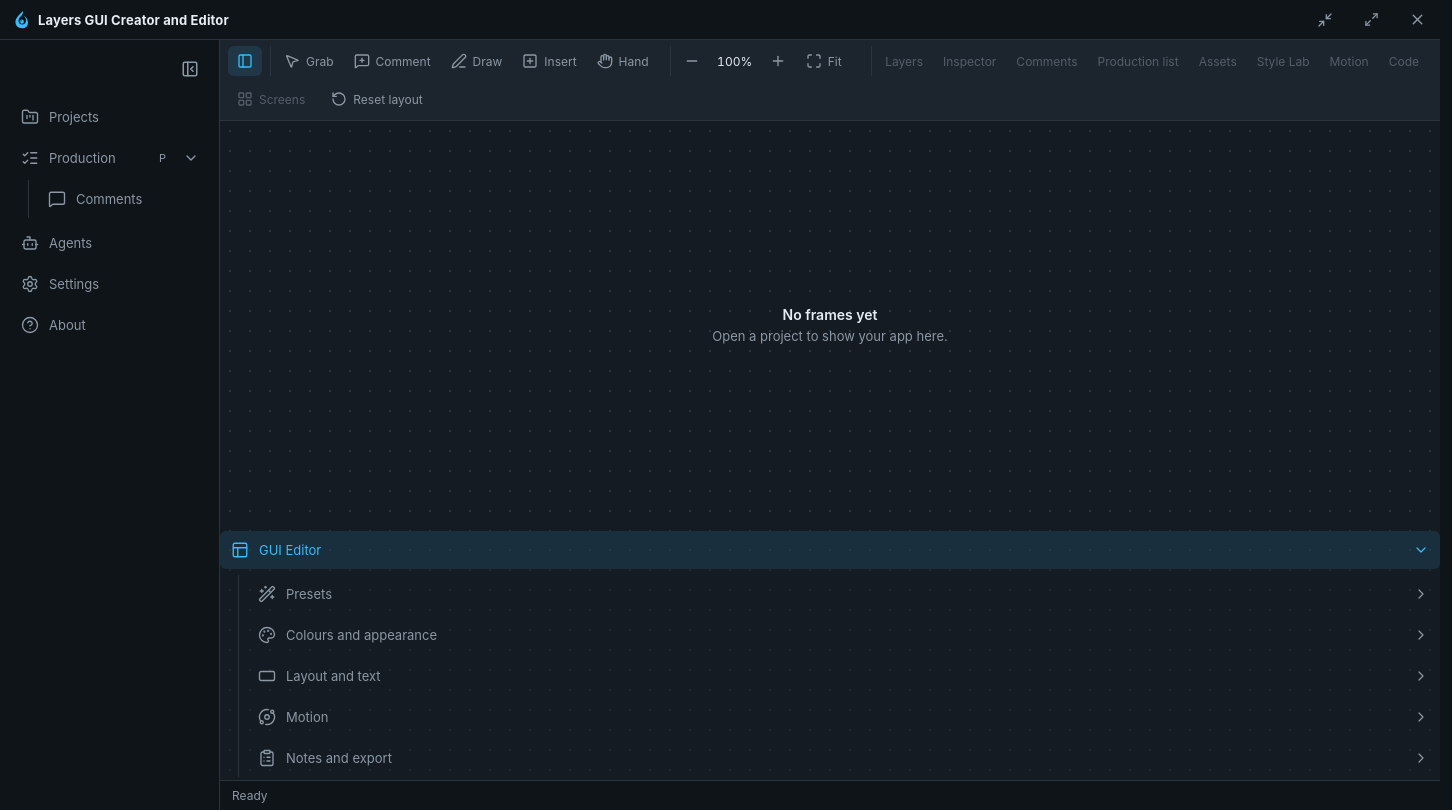
Scenario: the canvas stays viewable while another page is open and closes back to it
The image size is (1452, 810).
Click the button "Production P" at (94, 158), box top-left (10, 139), bottom-right (177, 177)
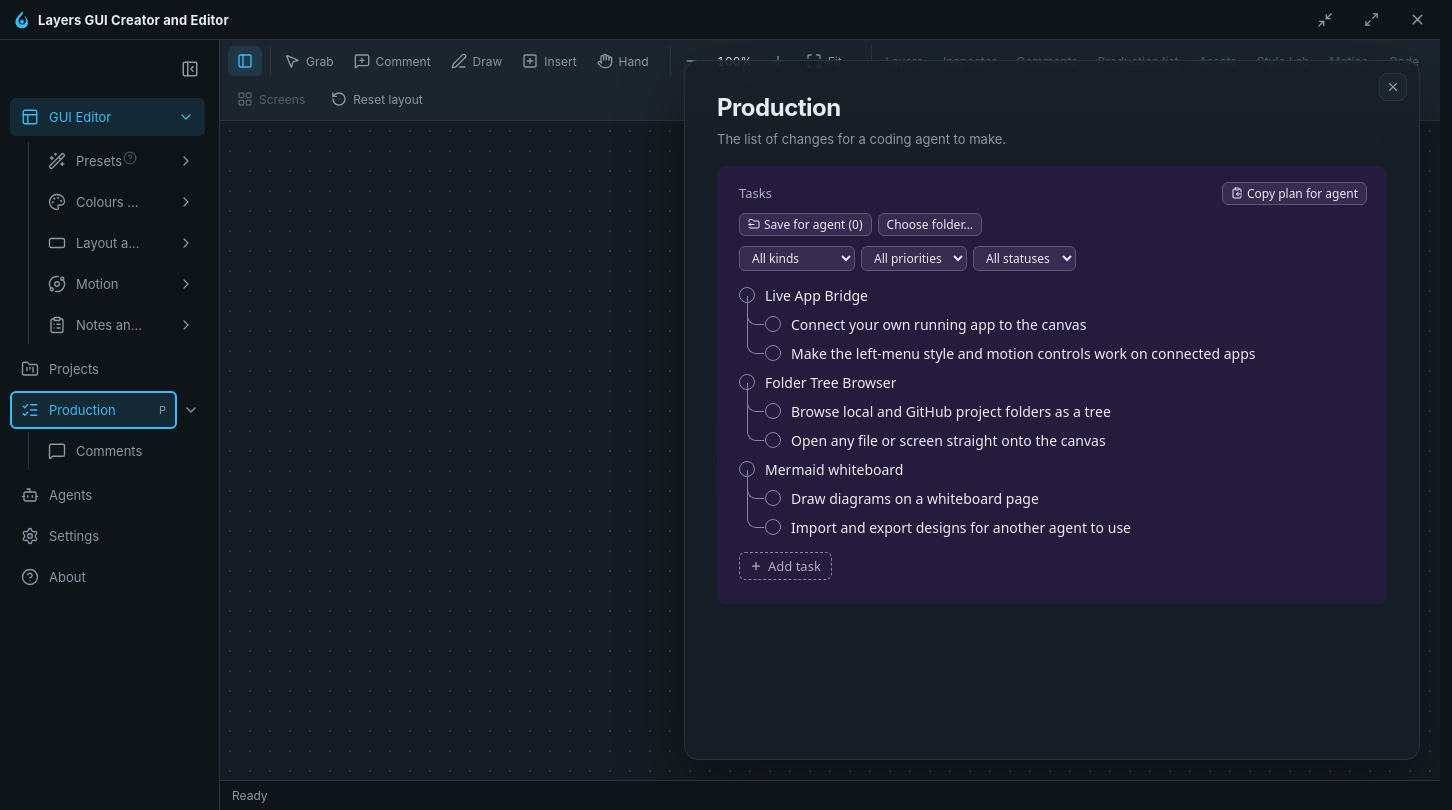
Check: the heading "Production" is shown, box top-left (717, 93), bottom-right (841, 122)
Click the button named "Close page" at (1393, 87), box top-left (1379, 73), bottom-right (1407, 101)
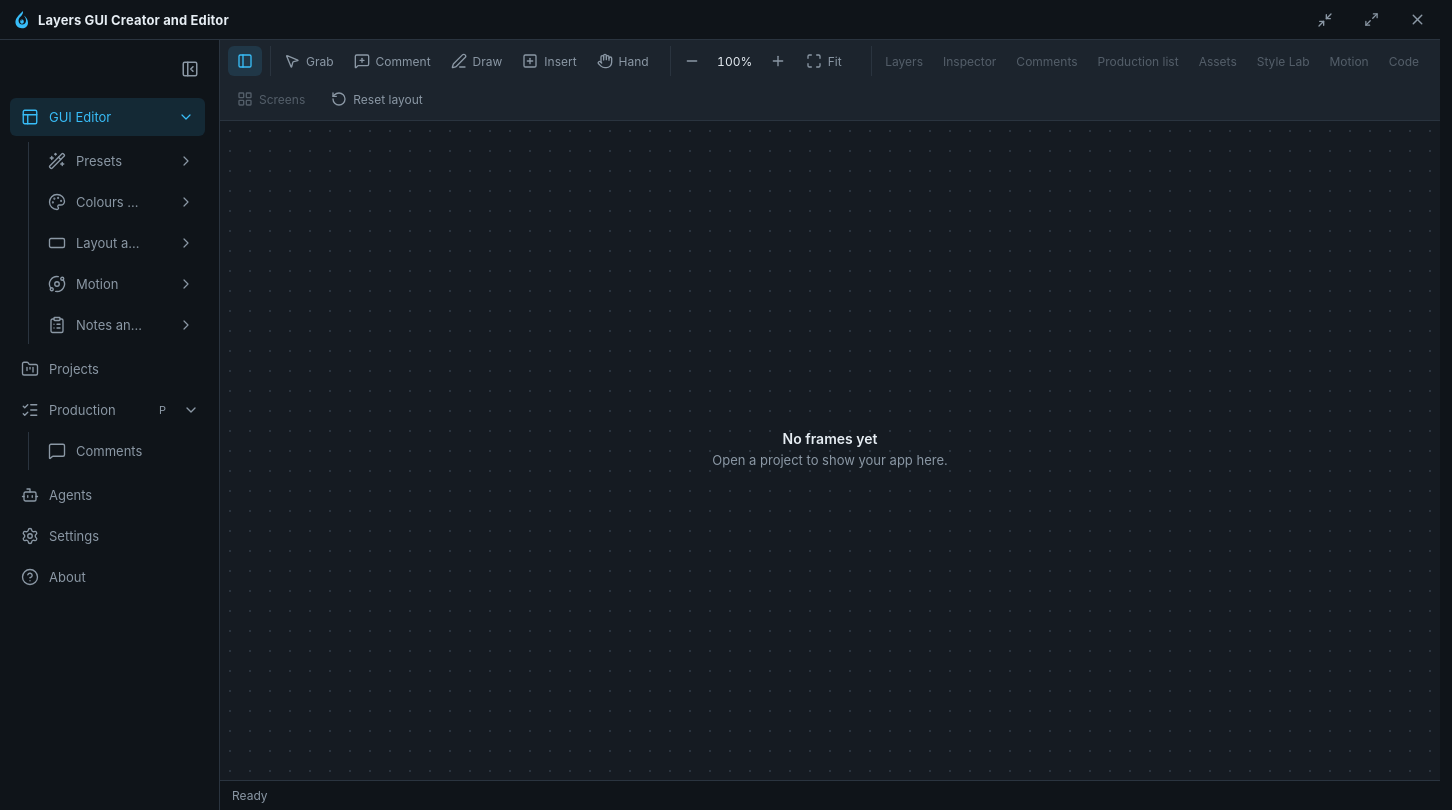
Check: the element with class "app-shell__workspace-content" has attribute data-route="canvas"
